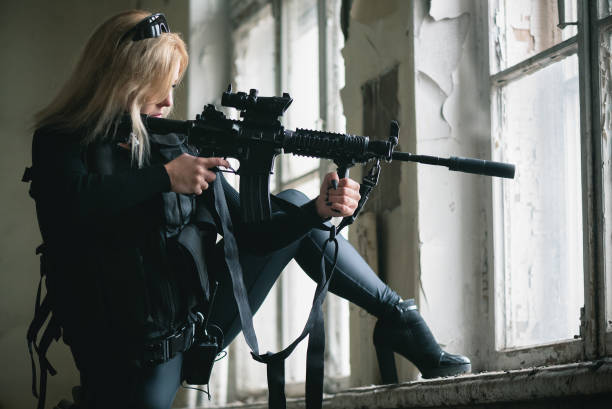gun: (139, 86, 519, 229)
